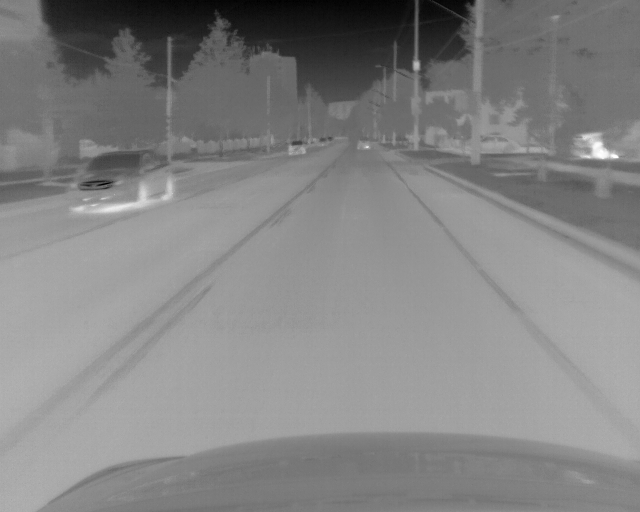car: (70, 149, 174, 213), (468, 133, 516, 156), (287, 139, 306, 156), (356, 137, 372, 151), (318, 137, 326, 146), (327, 136, 334, 143)
